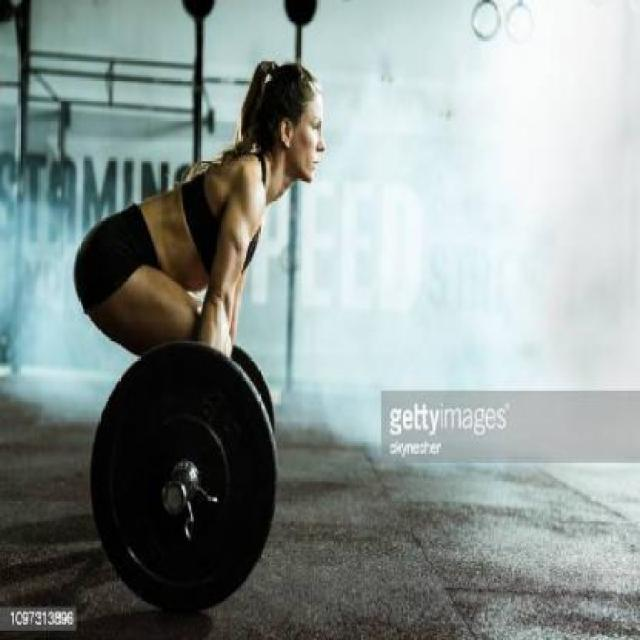barbell: (83, 338, 280, 620)
